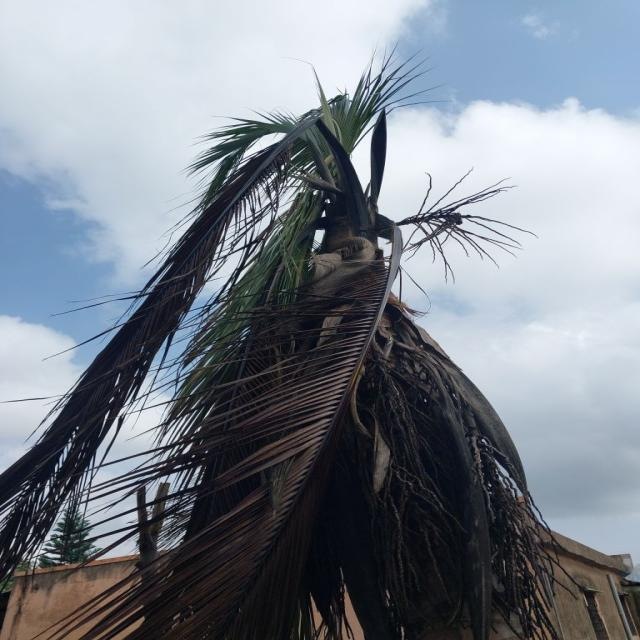bud root dropping: (2, 59, 568, 640)
